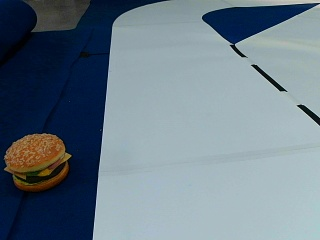burger: (3, 130, 71, 191)
